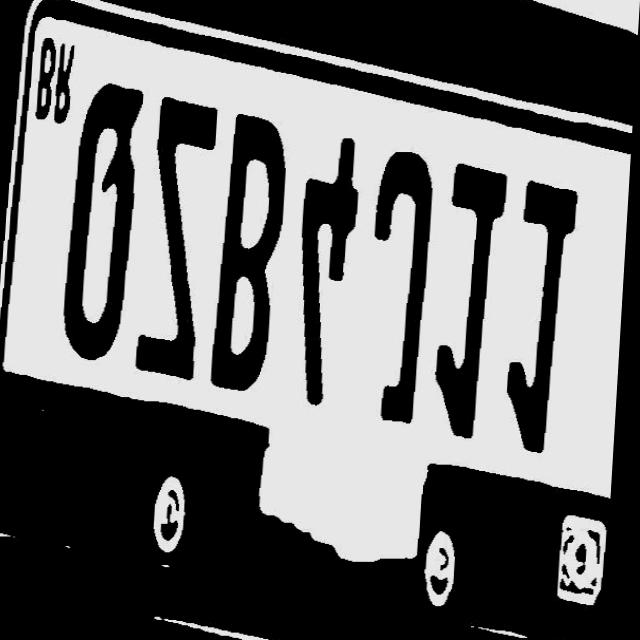1: (503, 175, 591, 453), (432, 160, 514, 442)
4: (292, 130, 371, 408)
b: (207, 115, 296, 395)
j: (366, 142, 437, 426)
q: (59, 74, 149, 364)
z: (135, 94, 222, 381)
